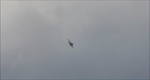maybay_muctieu: (67, 38, 76, 51)
